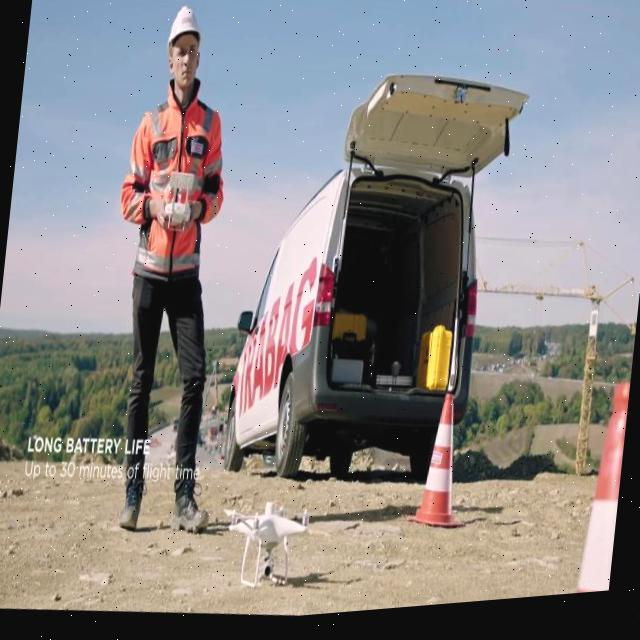drone: (213, 496, 315, 601)
